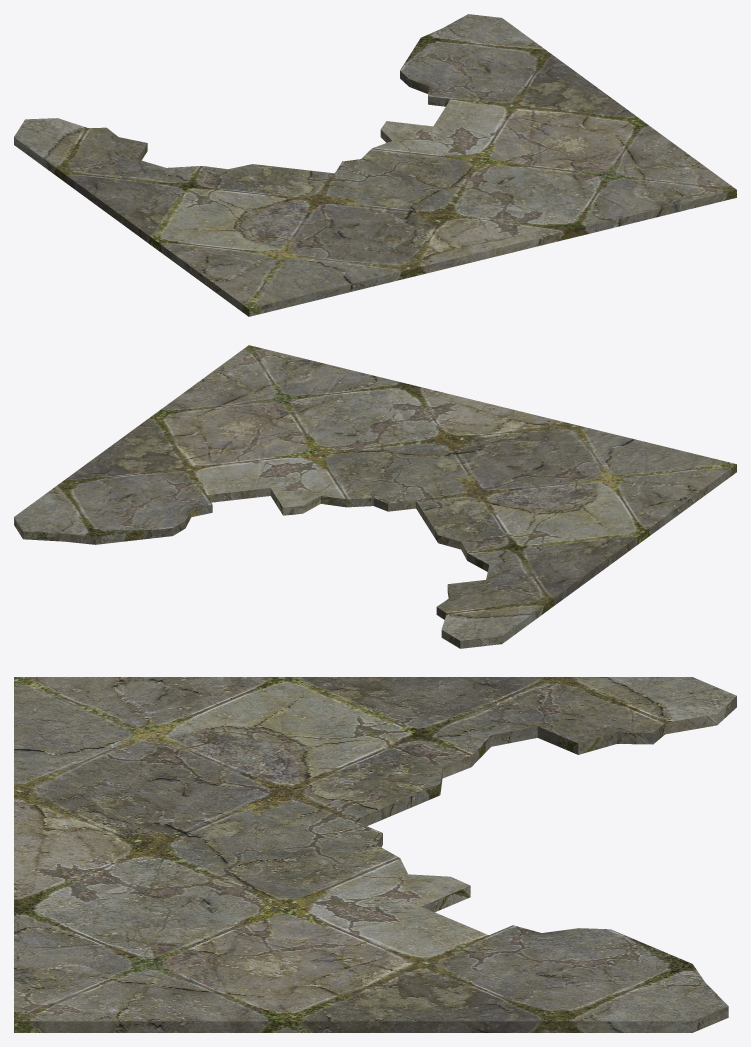
The model's file is bg_lut_lucastle_castlefloorcrack01_sm_lkj.FBX.
3 views of the same model, one above another, from view 1: azimuth 30°, elevation 25°; view 2: azimuth 150°, elevation 25°; view 3: azimuth 270°, elevation 25° (orthographic). The views are drawn at different scales.
Parts seen in each view (by area): view 1: bg_lut_lucastle_castlefloorcrack01_sm_lkj; view 2: bg_lut_lucastle_castlefloorcrack01_sm_lkj; view 3: bg_lut_lucastle_castlefloorcrack01_sm_lkj.
Part boxes in pixels (left/top/right/bottom): bg_lut_lucastle_castlefloorcrack01_sm_lkj: left=14, top=14, right=736, bottom=316; bg_lut_lucastle_castlefloorcrack01_sm_lkj: left=14, top=345, right=736, bottom=648; bg_lut_lucastle_castlefloorcrack01_sm_lkj: left=14, top=677, right=736, bottom=1032.
Size of the model in its own units: 512 by 8 by 454.
